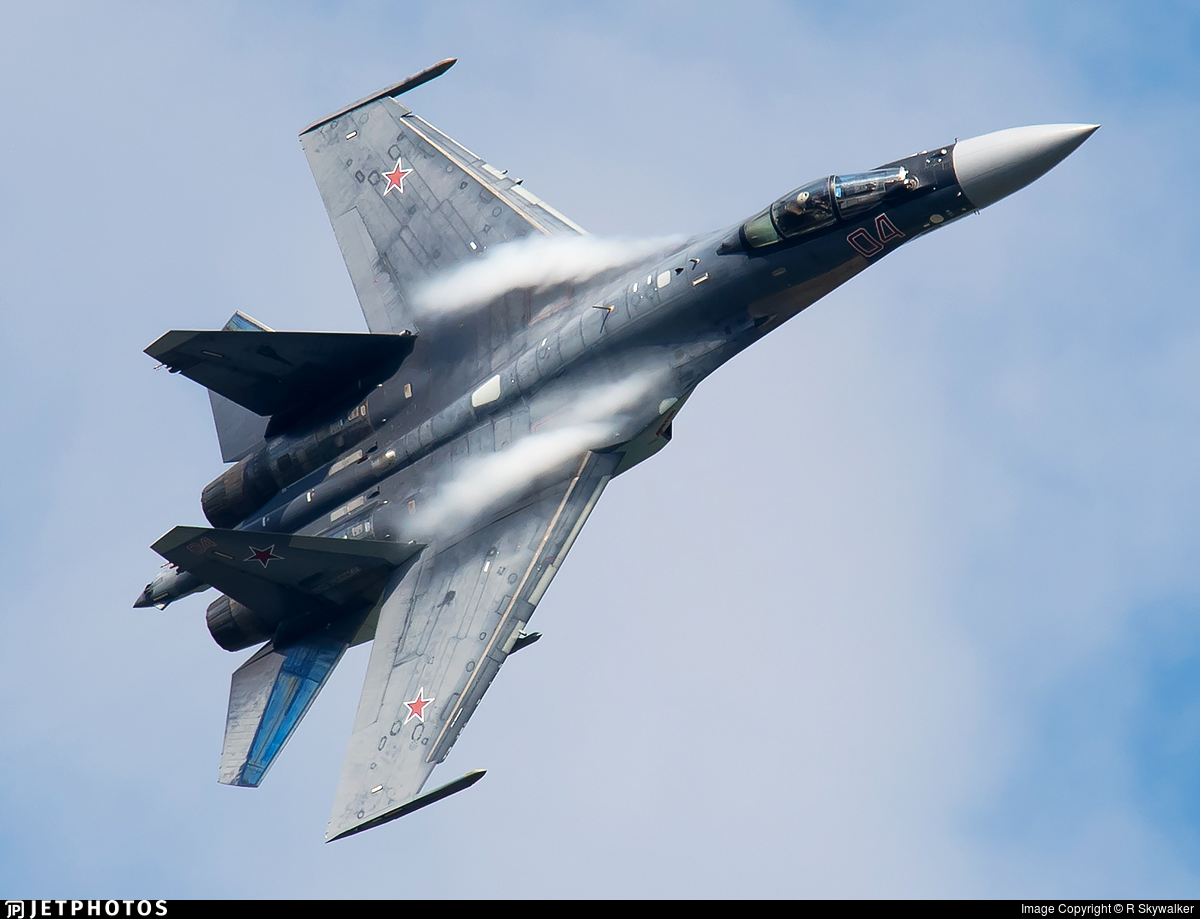Su35: (134, 56, 1102, 844)
